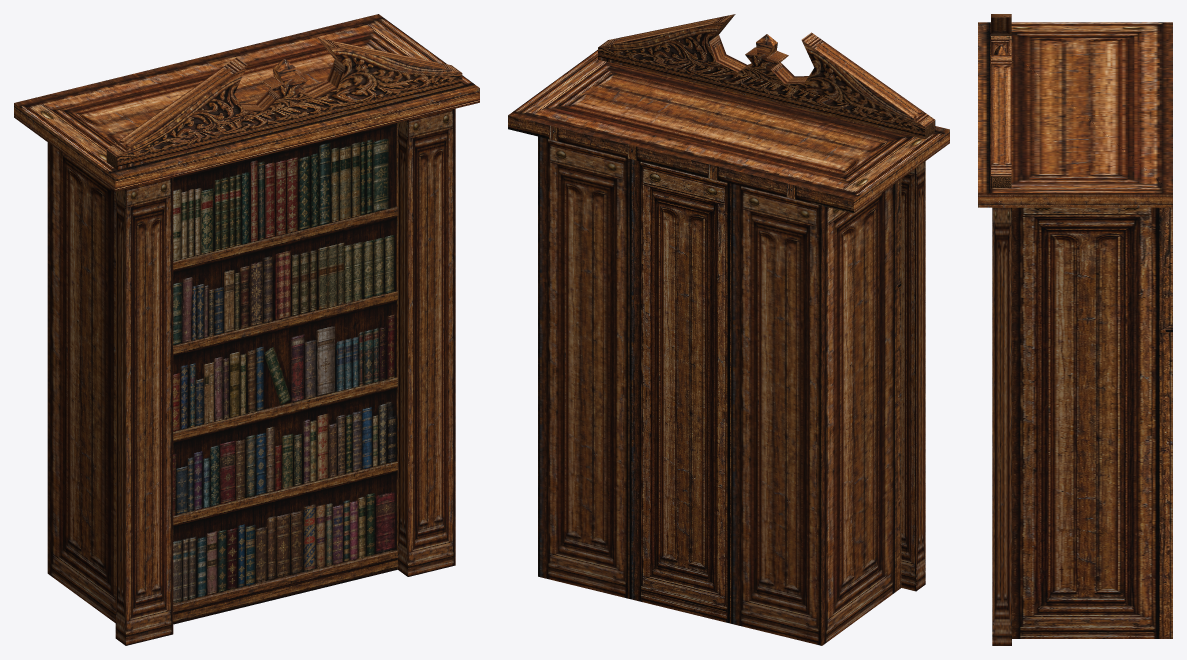
File: mm9_deco_bookcase01ns.glb
3 views of the same model, side by side, from view 1: azimuth 30°, elevation 25°; view 2: azimuth 150°, elevation 25°; view 3: azimuth 270°, elevation 25° (orthographic). The views are drawn at different scales.
Parts seen in each view (by area): view 1: Bookcase01ns; view 2: Bookcase01ns; view 3: Bookcase01ns.
Boxes of the visible parts, <box> form: Bookcase01ns: <box>14,14,479,645</box>; Bookcase01ns: <box>508,14,949,645</box>; Bookcase01ns: <box>978,14,1172,645</box>.
Size of the model in its own units: 2.06 by 2.98 by 0.9912.
2 materials, 2 textured.
